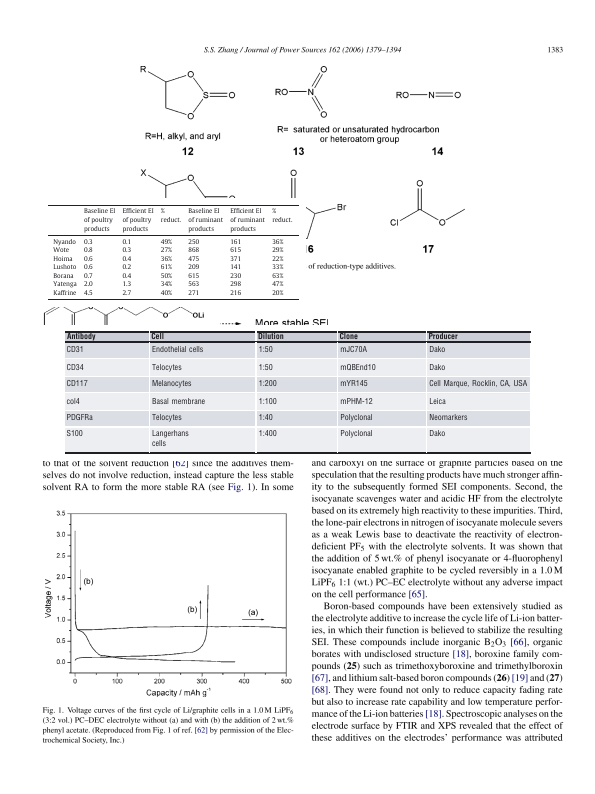borderless: (65, 330, 531, 452), (47, 203, 299, 299)
cell: (428, 379, 528, 389), (187, 208, 224, 233), (229, 208, 266, 233), (83, 208, 116, 233), (122, 208, 155, 233), (150, 429, 189, 449), (150, 397, 206, 406), (150, 345, 204, 354), (150, 379, 192, 389), (428, 413, 468, 423), (271, 208, 294, 224), (160, 208, 182, 224), (339, 413, 373, 423), (339, 429, 373, 439), (339, 363, 376, 372), (150, 413, 182, 423), (65, 332, 96, 342), (427, 332, 458, 342), (339, 397, 373, 406), (339, 379, 368, 389), (150, 363, 182, 372), (256, 332, 284, 342), (65, 413, 93, 423), (339, 345, 367, 354), (52, 289, 78, 298), (65, 379, 88, 389), (52, 263, 77, 272), (52, 281, 78, 289), (338, 332, 358, 342), (257, 379, 277, 389), (257, 429, 277, 439), (52, 238, 77, 246), (52, 272, 75, 280), (257, 397, 277, 406), (65, 429, 83, 439), (428, 429, 446, 439), (52, 255, 74, 263), (65, 345, 84, 354), (65, 363, 84, 372), (428, 345, 446, 354), (428, 363, 446, 372), (428, 397, 446, 406), (52, 246, 70, 255), (257, 413, 273, 423), (257, 345, 273, 354), (257, 363, 273, 372), (150, 332, 164, 342), (65, 397, 80, 406), (160, 246, 173, 255), (187, 246, 200, 255), (229, 246, 242, 255), (271, 246, 284, 255), (160, 263, 173, 272), (187, 263, 200, 272), (229, 263, 242, 272), (271, 263, 284, 272), (160, 289, 173, 298), (187, 289, 200, 298), (229, 289, 242, 298), (271, 289, 284, 298), (160, 238, 173, 246), (187, 238, 200, 246), (229, 238, 242, 246), (271, 238, 284, 246), (160, 255, 173, 263), (187, 255, 200, 263), (229, 255, 242, 263), (271, 255, 284, 263), (160, 272, 173, 280), (187, 272, 200, 280), (229, 272, 242, 280), (271, 272, 284, 280), (160, 281, 173, 289), (187, 281, 200, 289), (229, 281, 242, 289), (271, 281, 284, 289), (83, 246, 94, 255), (83, 263, 94, 272), (83, 289, 94, 298), (122, 246, 132, 255), (122, 263, 132, 272), (122, 289, 132, 298), (83, 238, 94, 246), (83, 255, 94, 263), (83, 272, 94, 280), (83, 281, 94, 289), (122, 238, 132, 246), (122, 255, 132, 263), (122, 272, 132, 280), (122, 281, 132, 289)
